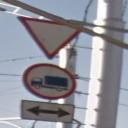preferencia: (14, 15, 87, 60)
